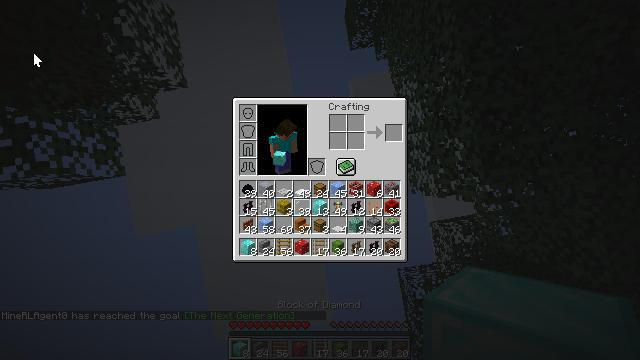cursor: (33, 52, 43, 68)
